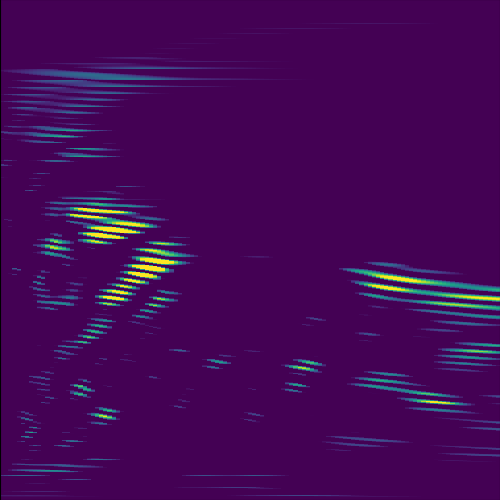semblance: (116, 239, 191, 285), (80, 219, 158, 247), (62, 204, 139, 221)
